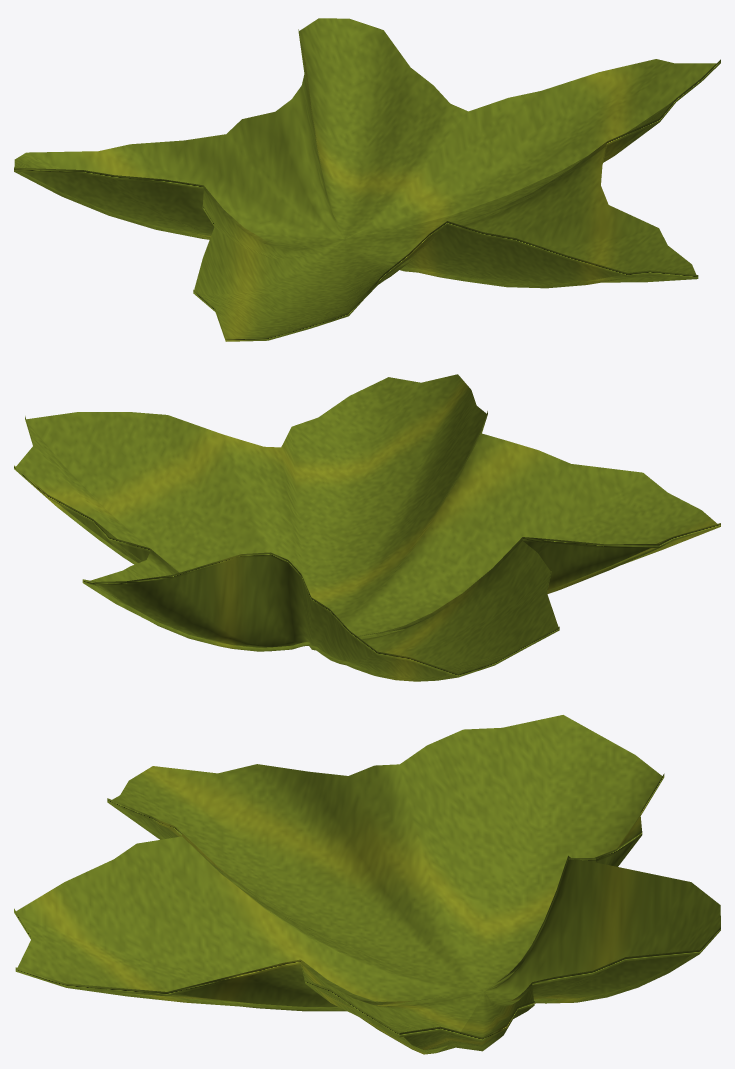
File: asset.glb
3 views of the same model, one above another, from view 1: azimuth 30°, elevation 25°; view 2: azimuth 150°, elevation 25°; view 3: azimuth 270°, elevation 25° (orthographic). The views are drawn at different scales.
Size of the model in its own units: 0.6541 by 0.1287 by 0.5865.
1 material, 1 textured.
